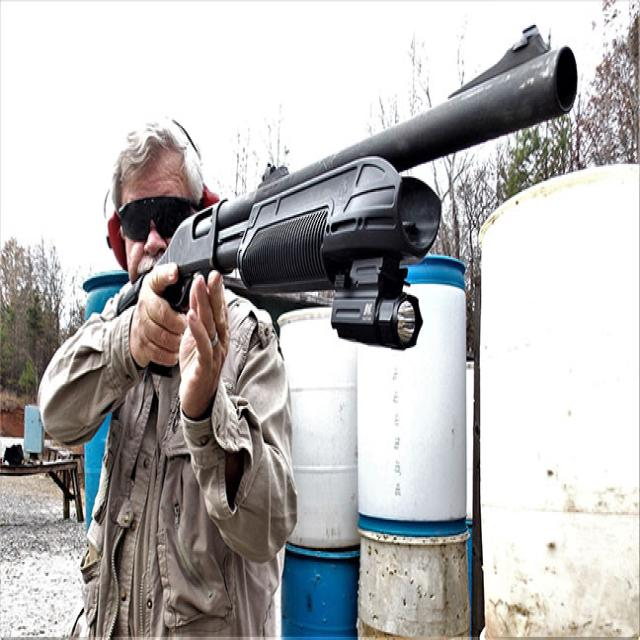ShotGun: (115, 47, 580, 351)
